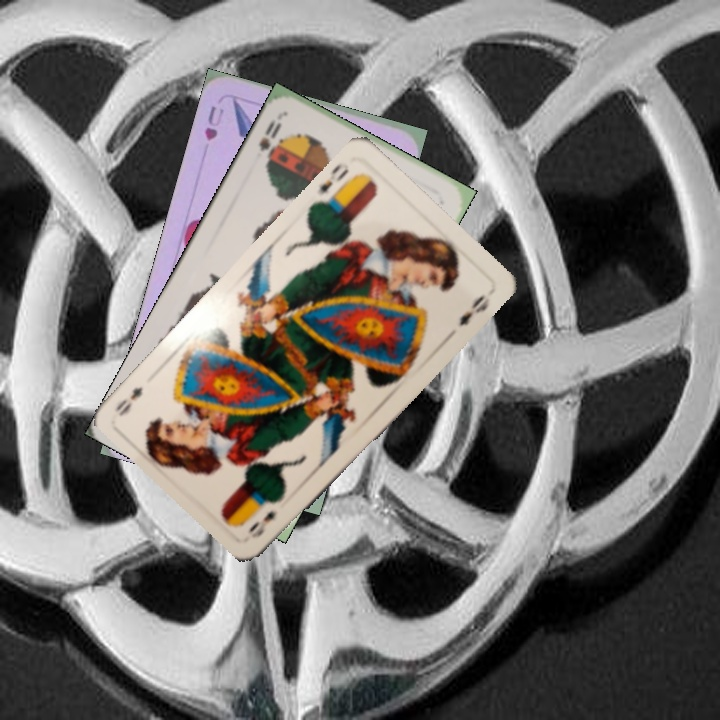EO: (313, 162, 354, 207), (245, 506, 279, 541)
HU: (200, 101, 227, 143)
SO: (255, 115, 285, 169)
